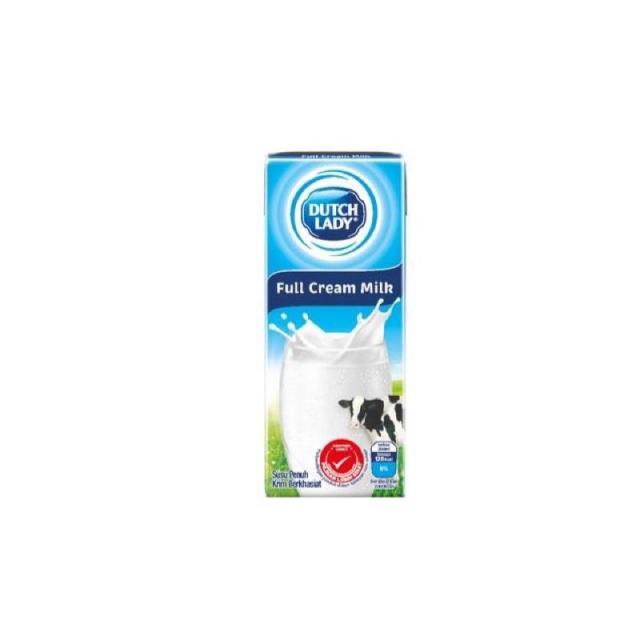drink carton: (263, 146, 408, 499)
